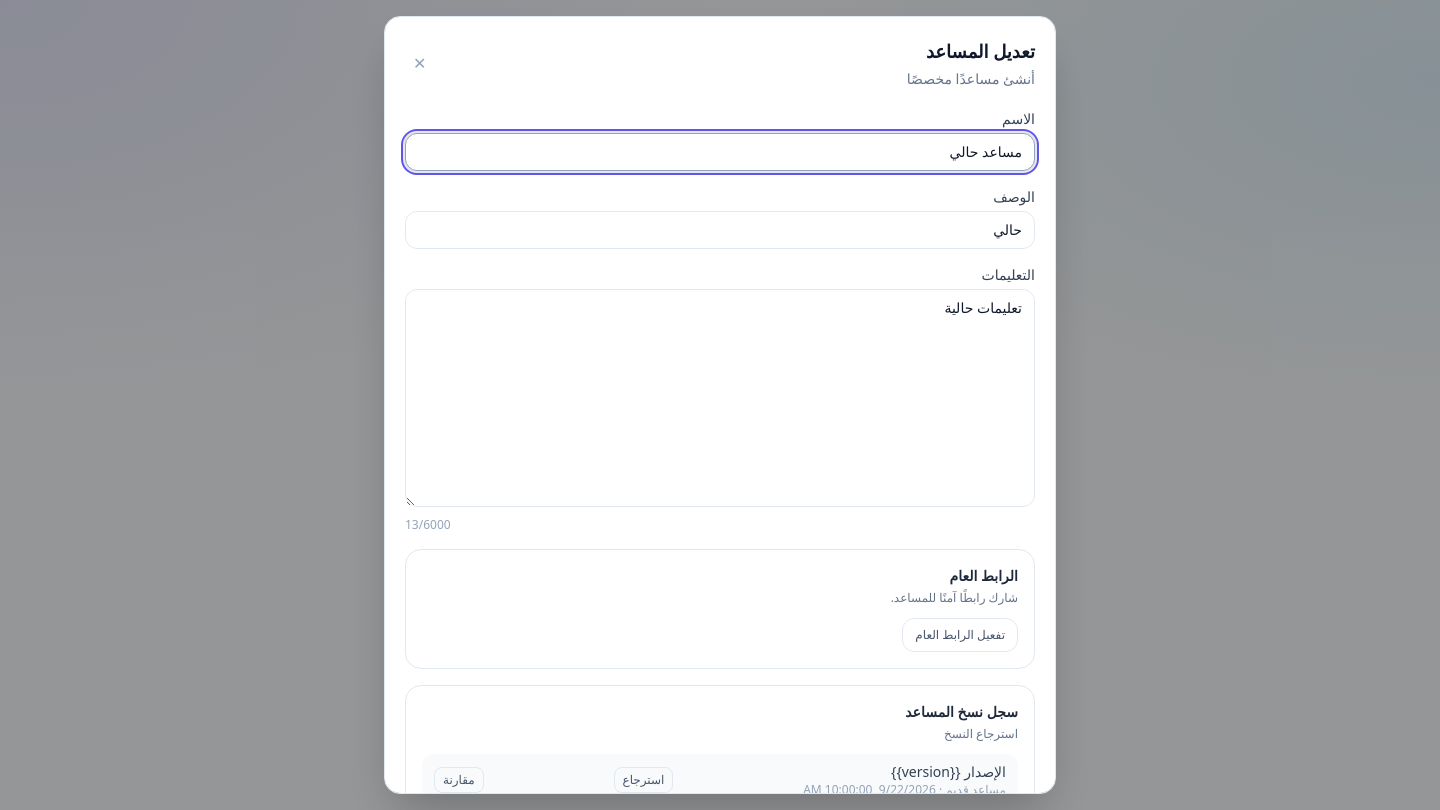
AssistantEditor › compares a historical version with the current assistant
Click the button "مقارنة" at point(459, 780), box [434,767,484,793]
(page scrolled)
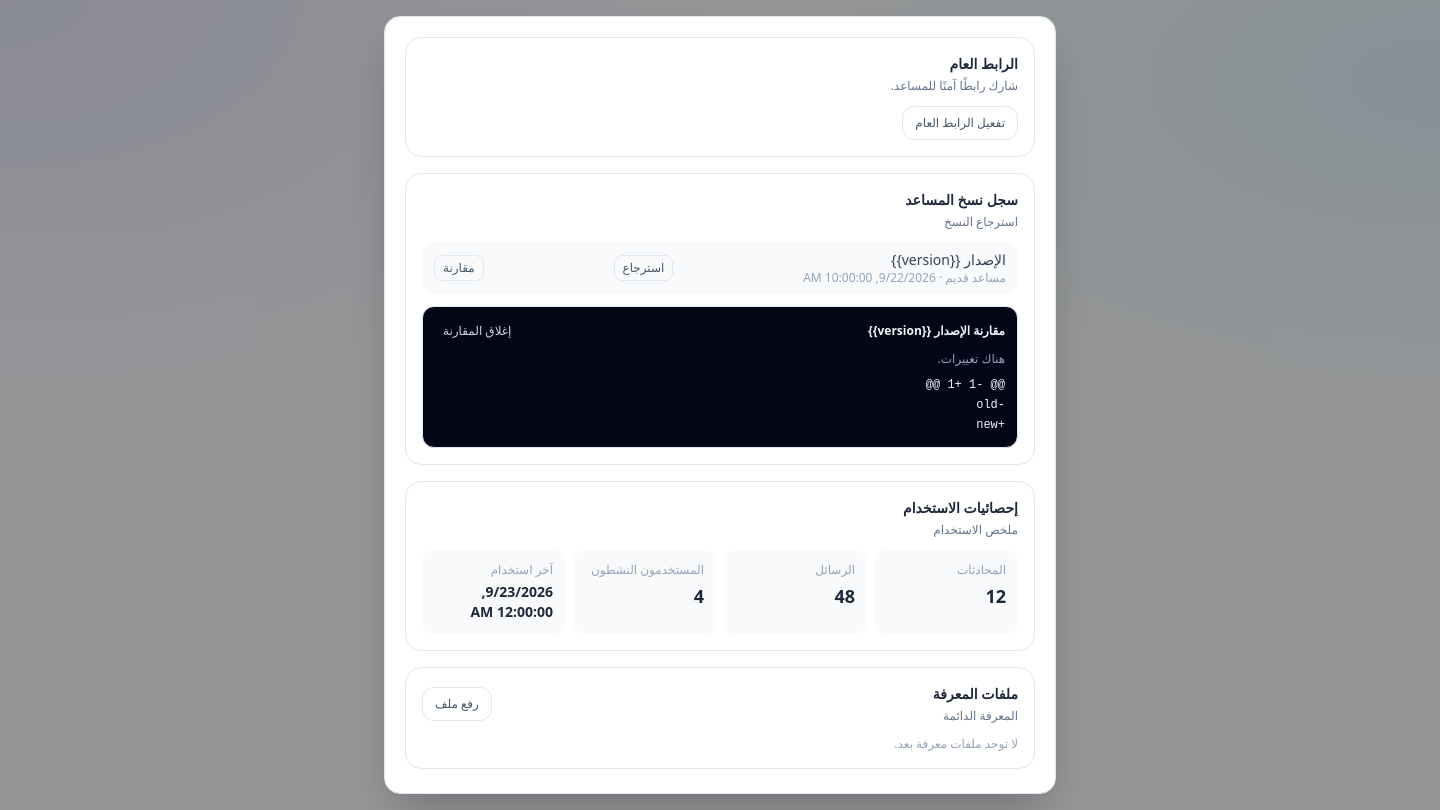
Result: the text "مقارنة الإصدار {{version}}" is shown at [868,323,1005,339]
Result: the text "+new" is shown at [926,378,1005,432]
